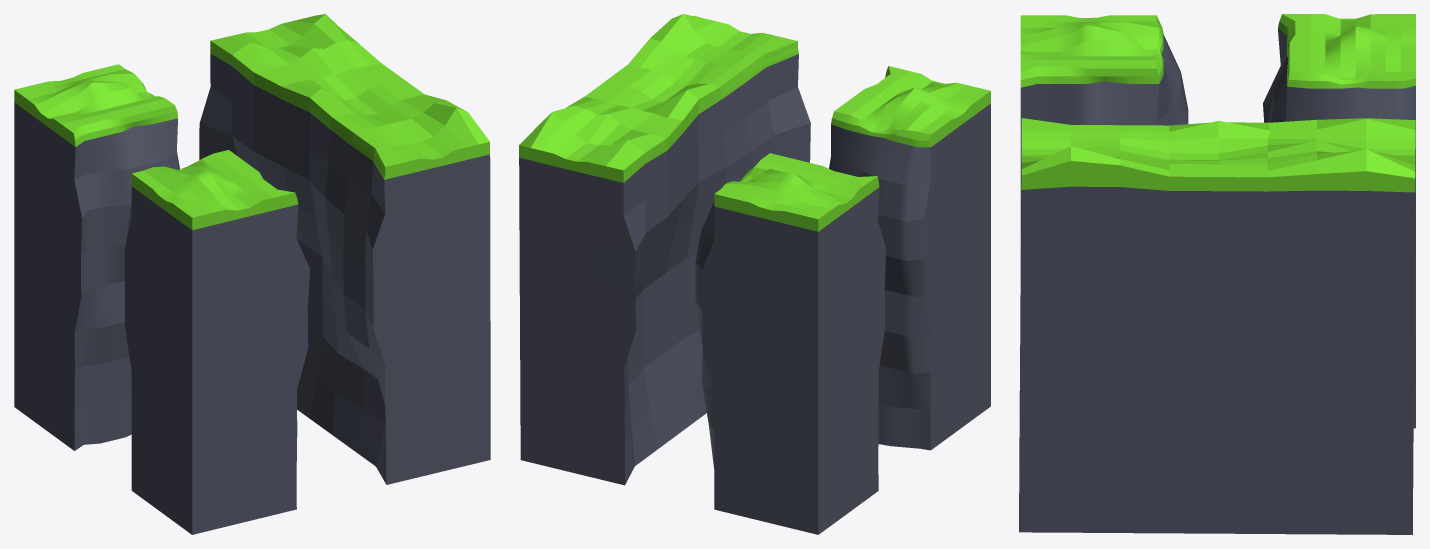
File: TBlockSet.dae
3 views of the same model, side by side, from view 1: azimuth 30°, elevation 25°; view 2: azimuth 150°, elevation 25°; view 3: azimuth 270°, elevation 25° (orthographic). The views are drawn at different scales.
Visible parts, largest first — view 1: polySurface412; view 2: polySurface412; view 3: polySurface412.
Boxes of the visible parts, box(x1,y1,x2,y2) form: polySurface412: box(14, 14, 490, 534); polySurface412: box(519, 14, 990, 534); polySurface412: box(1019, 14, 1415, 534).
Bounding box in the file's own units: 154 × 167 × 157.
